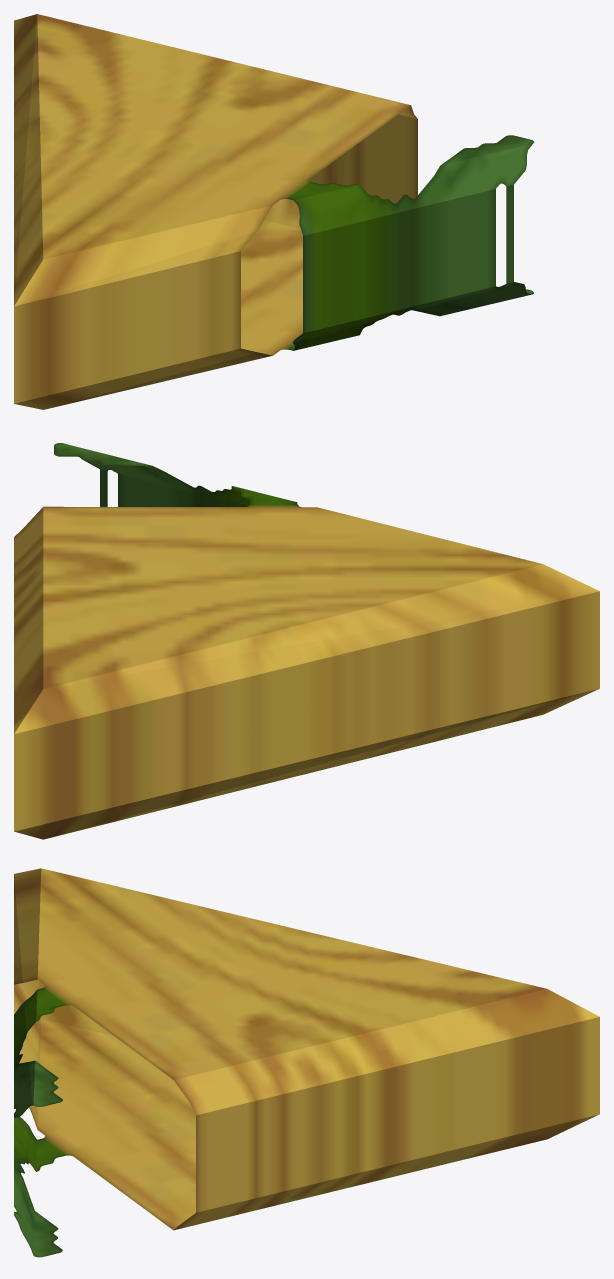
File: OnimasuPlanetObstaclePartsA.dae
The picture shows the model from 3 angles, top to bottom: view 1: azimuth 30°, elevation 25°; view 2: azimuth 150°, elevation 25°; view 3: azimuth 270°, elevation 25°; orthographic projection.
Visible parts, largest first — view 1: m0; view 2: m0; view 3: m0.
Part boxes in pixels (box(x1,y1,x2,y2)): m0: box(14, 14, 534, 409); m0: box(14, 443, 599, 839); m0: box(14, 868, 599, 1257).
Bounding box in the file's own units: 693 × 170 × 600.
1 material, 1 textured.
